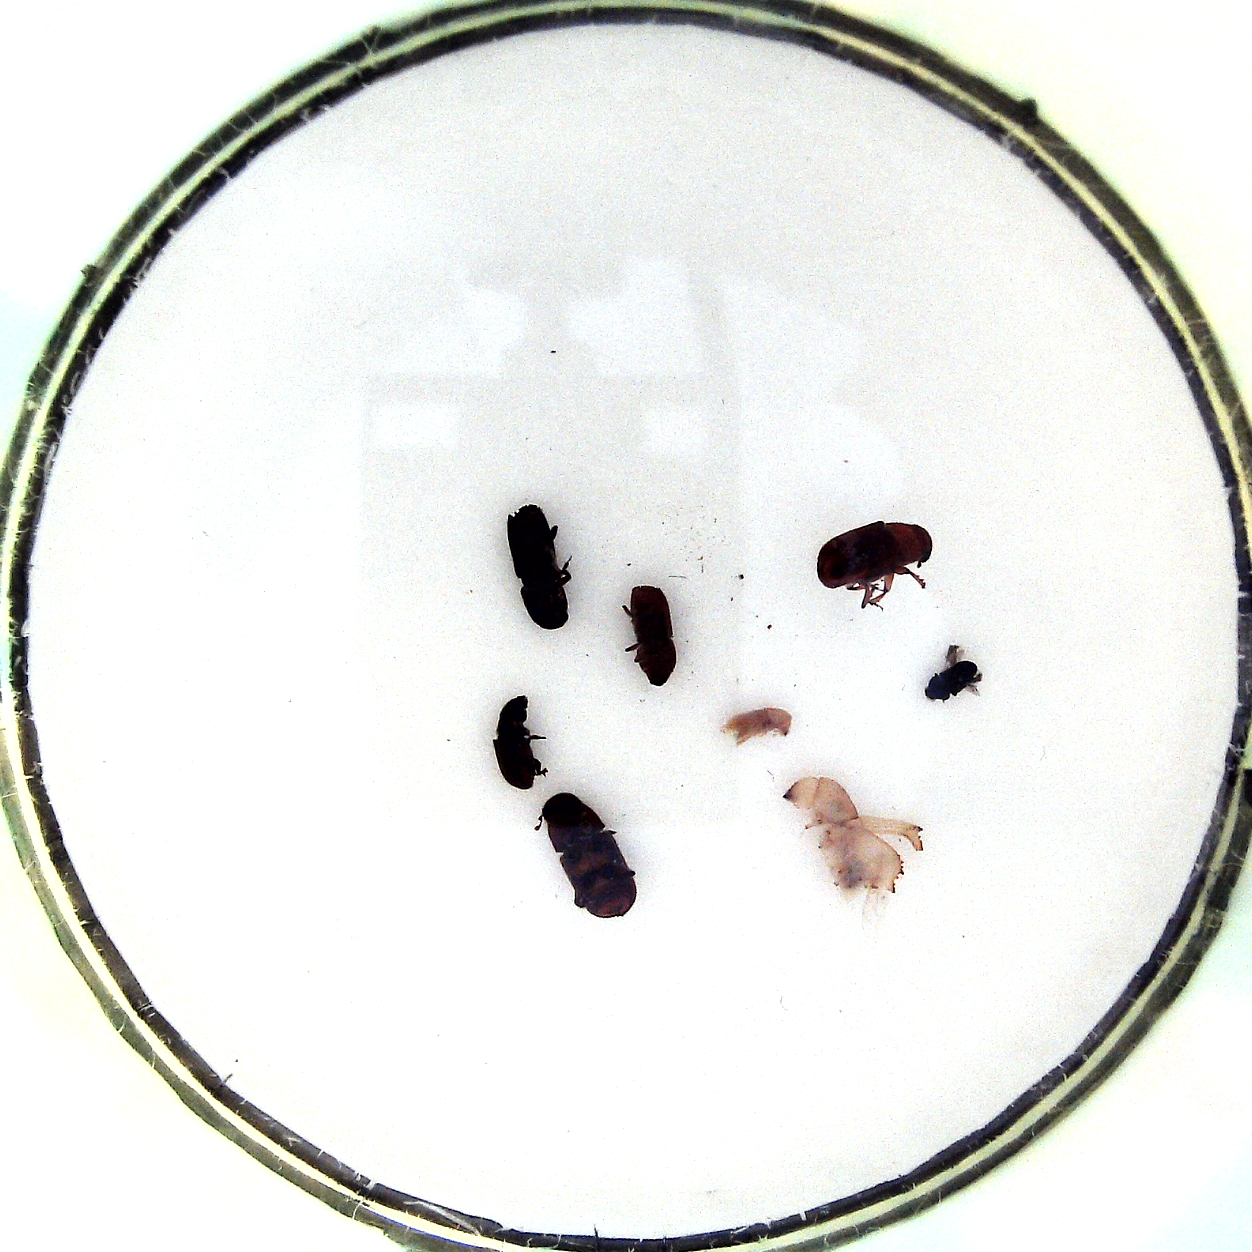Boerner: (780, 778, 928, 910), (503, 502, 580, 632)
Leconte: (532, 795, 642, 920), (813, 515, 936, 612)
Linnaeus: (623, 579, 680, 687)
acuminatus: (723, 701, 798, 748)
armandi: (490, 689, 549, 791)
coleoptera: (917, 647, 988, 707)
